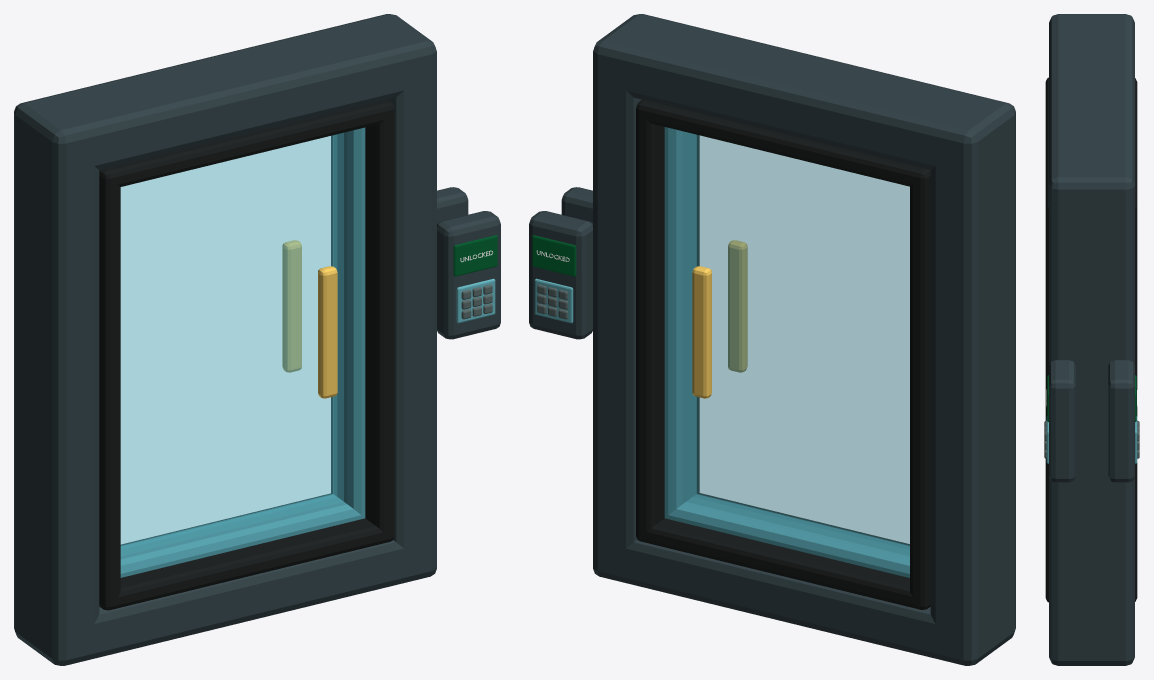
The model's file is 04_glass_door_1p5x2m.glb.
The picture shows the model from 3 angles, left to right: view 1: azimuth 30°, elevation 25°; view 2: azimuth 150°, elevation 25°; view 3: azimuth 270°, elevation 25°; orthographic projection. The views are drawn at different scales.
Parts seen in each view (by area): view 1: GLASS_DOOR_Reinforced_Glass_Insert, GLASS_SWING_Frame_Left, GLASS_SWING_Frame_Top, GLASS_SWING_Frame_Right, GLASS_SWING_Frame_Bottom_Threshold, GLASS_SWING_Inner_Rubber_Seal_Right, GLASS_DOOR_Right_Stile, GLASS_SWING_Inner_Rubber_Seal_Left, GLASS_SWING_Inner_Rubber_Seal_Bottom, GLASS_DOOR_Bottom_Rail, GLASS_SWING_Inner_Rubber_Seal_Top, GLASS_SWING_Front_Electronic_Control_Block (+5 smaller); view 2: GLASS_DOOR_Reinforced_Glass_Insert, GLASS_SWING_Frame_Left, GLASS_SWING_Frame_Top, GLASS_SWING_Frame_Right, GLASS_SWING_Frame_Bottom_Threshold, GLASS_SWING_Inner_Rubber_Seal_Right, GLASS_DOOR_Right_Stile, GLASS_SWING_Inner_Rubber_Seal_Left, GLASS_SWING_Inner_Rubber_Seal_Bottom, GLASS_DOOR_Bottom_Rail, GLASS_SWING_Inner_Rubber_Seal_Top, GLASS_SWING_Back_Electronic_Control_Block (+5 smaller); view 3: GLASS_SWING_Frame_Right, GLASS_SWING_Frame_Top, GLASS_SWING_Back_Electronic_Control_Block, GLASS_SWING_Front_Electronic_Control_Block, GLASS_SWING_Inner_Rubber_Seal_Right, GLASS_SWING_Frame_Bottom_Threshold, GLASS_SWING_Frame_Left, GLASS_SWING_Inner_Rubber_Seal_Top.
Boxes of the visible parts, x1,y1,x2,y2 form: GLASS_DOOR_Reinforced_Glass_Insert: (120,133,343,555); GLASS_SWING_Frame_Left: (14,96,99,665); GLASS_SWING_Frame_Top: (16,14,433,172); GLASS_SWING_Frame_Right: (361,14,436,577); GLASS_SWING_Frame_Bottom_Threshold: (17,539,436,665); GLASS_SWING_Inner_Rubber_Seal_Right: (331,99,394,543); GLASS_DOOR_Right_Stile: (333,127,365,518); GLASS_SWING_Inner_Rubber_Seal_Left: (99,167,120,610); GLASS_SWING_Inner_Rubber_Seal_Bottom: (99,493,394,610); GLASS_DOOR_Bottom_Rail: (120,494,364,577); GLASS_SWING_Inner_Rubber_Seal_Top: (104,102,393,186); GLASS_SWING_Front_Electronic_Control_Block: (437,211,500,339); GLASS_DOOR_Reinforced_Glass_Insert: (686,132,909,555); GLASS_SWING_Frame_Left: (930,96,1015,665); GLASS_SWING_Frame_Top: (597,14,1014,172); GLASS_SWING_Frame_Right: (593,14,668,580); GLASS_SWING_Frame_Bottom_Threshold: (593,539,1012,665); GLASS_SWING_Inner_Rubber_Seal_Right: (636,99,699,536); GLASS_DOOR_Right_Stile: (664,127,696,518); GLASS_SWING_Inner_Rubber_Seal_Left: (910,167,930,607); GLASS_SWING_Inner_Rubber_Seal_Bottom: (636,493,930,609); GLASS_DOOR_Bottom_Rail: (665,494,909,577); GLASS_SWING_Inner_Rubber_Seal_Top: (636,102,929,186); GLASS_SWING_Back_Electronic_Control_Block: (529,211,592,339); GLASS_SWING_Frame_Right: (1049,164,1134,665); GLASS_SWING_Frame_Top: (1049,15,1134,216); GLASS_SWING_Back_Electronic_Control_Block: (1108,360,1134,482); GLASS_SWING_Front_Electronic_Control_Block: (1049,360,1075,482); GLASS_SWING_Inner_Rubber_Seal_Right: (1045,200,1137,602); GLASS_SWING_Frame_Bottom_Threshold: (1056,634,1127,656); GLASS_SWING_Frame_Left: (1049,14,1134,34); GLASS_SWING_Inner_Rubber_Seal_Top: (1045,81,1137,216).
Bounding box in the file's own units: 1.75 × 2 × 0.354.
